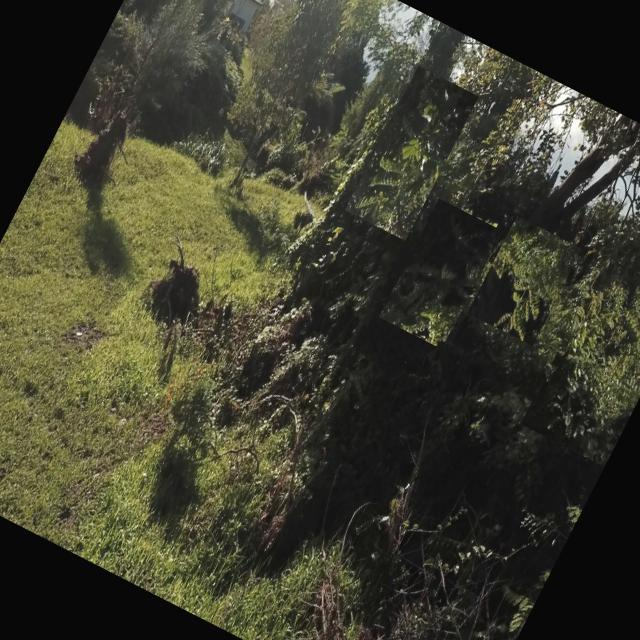Mysore-Thorn-Weed: (520, 256, 640, 467), (344, 66, 478, 241), (462, 485, 587, 640), (378, 198, 502, 349), (468, 216, 582, 346)
